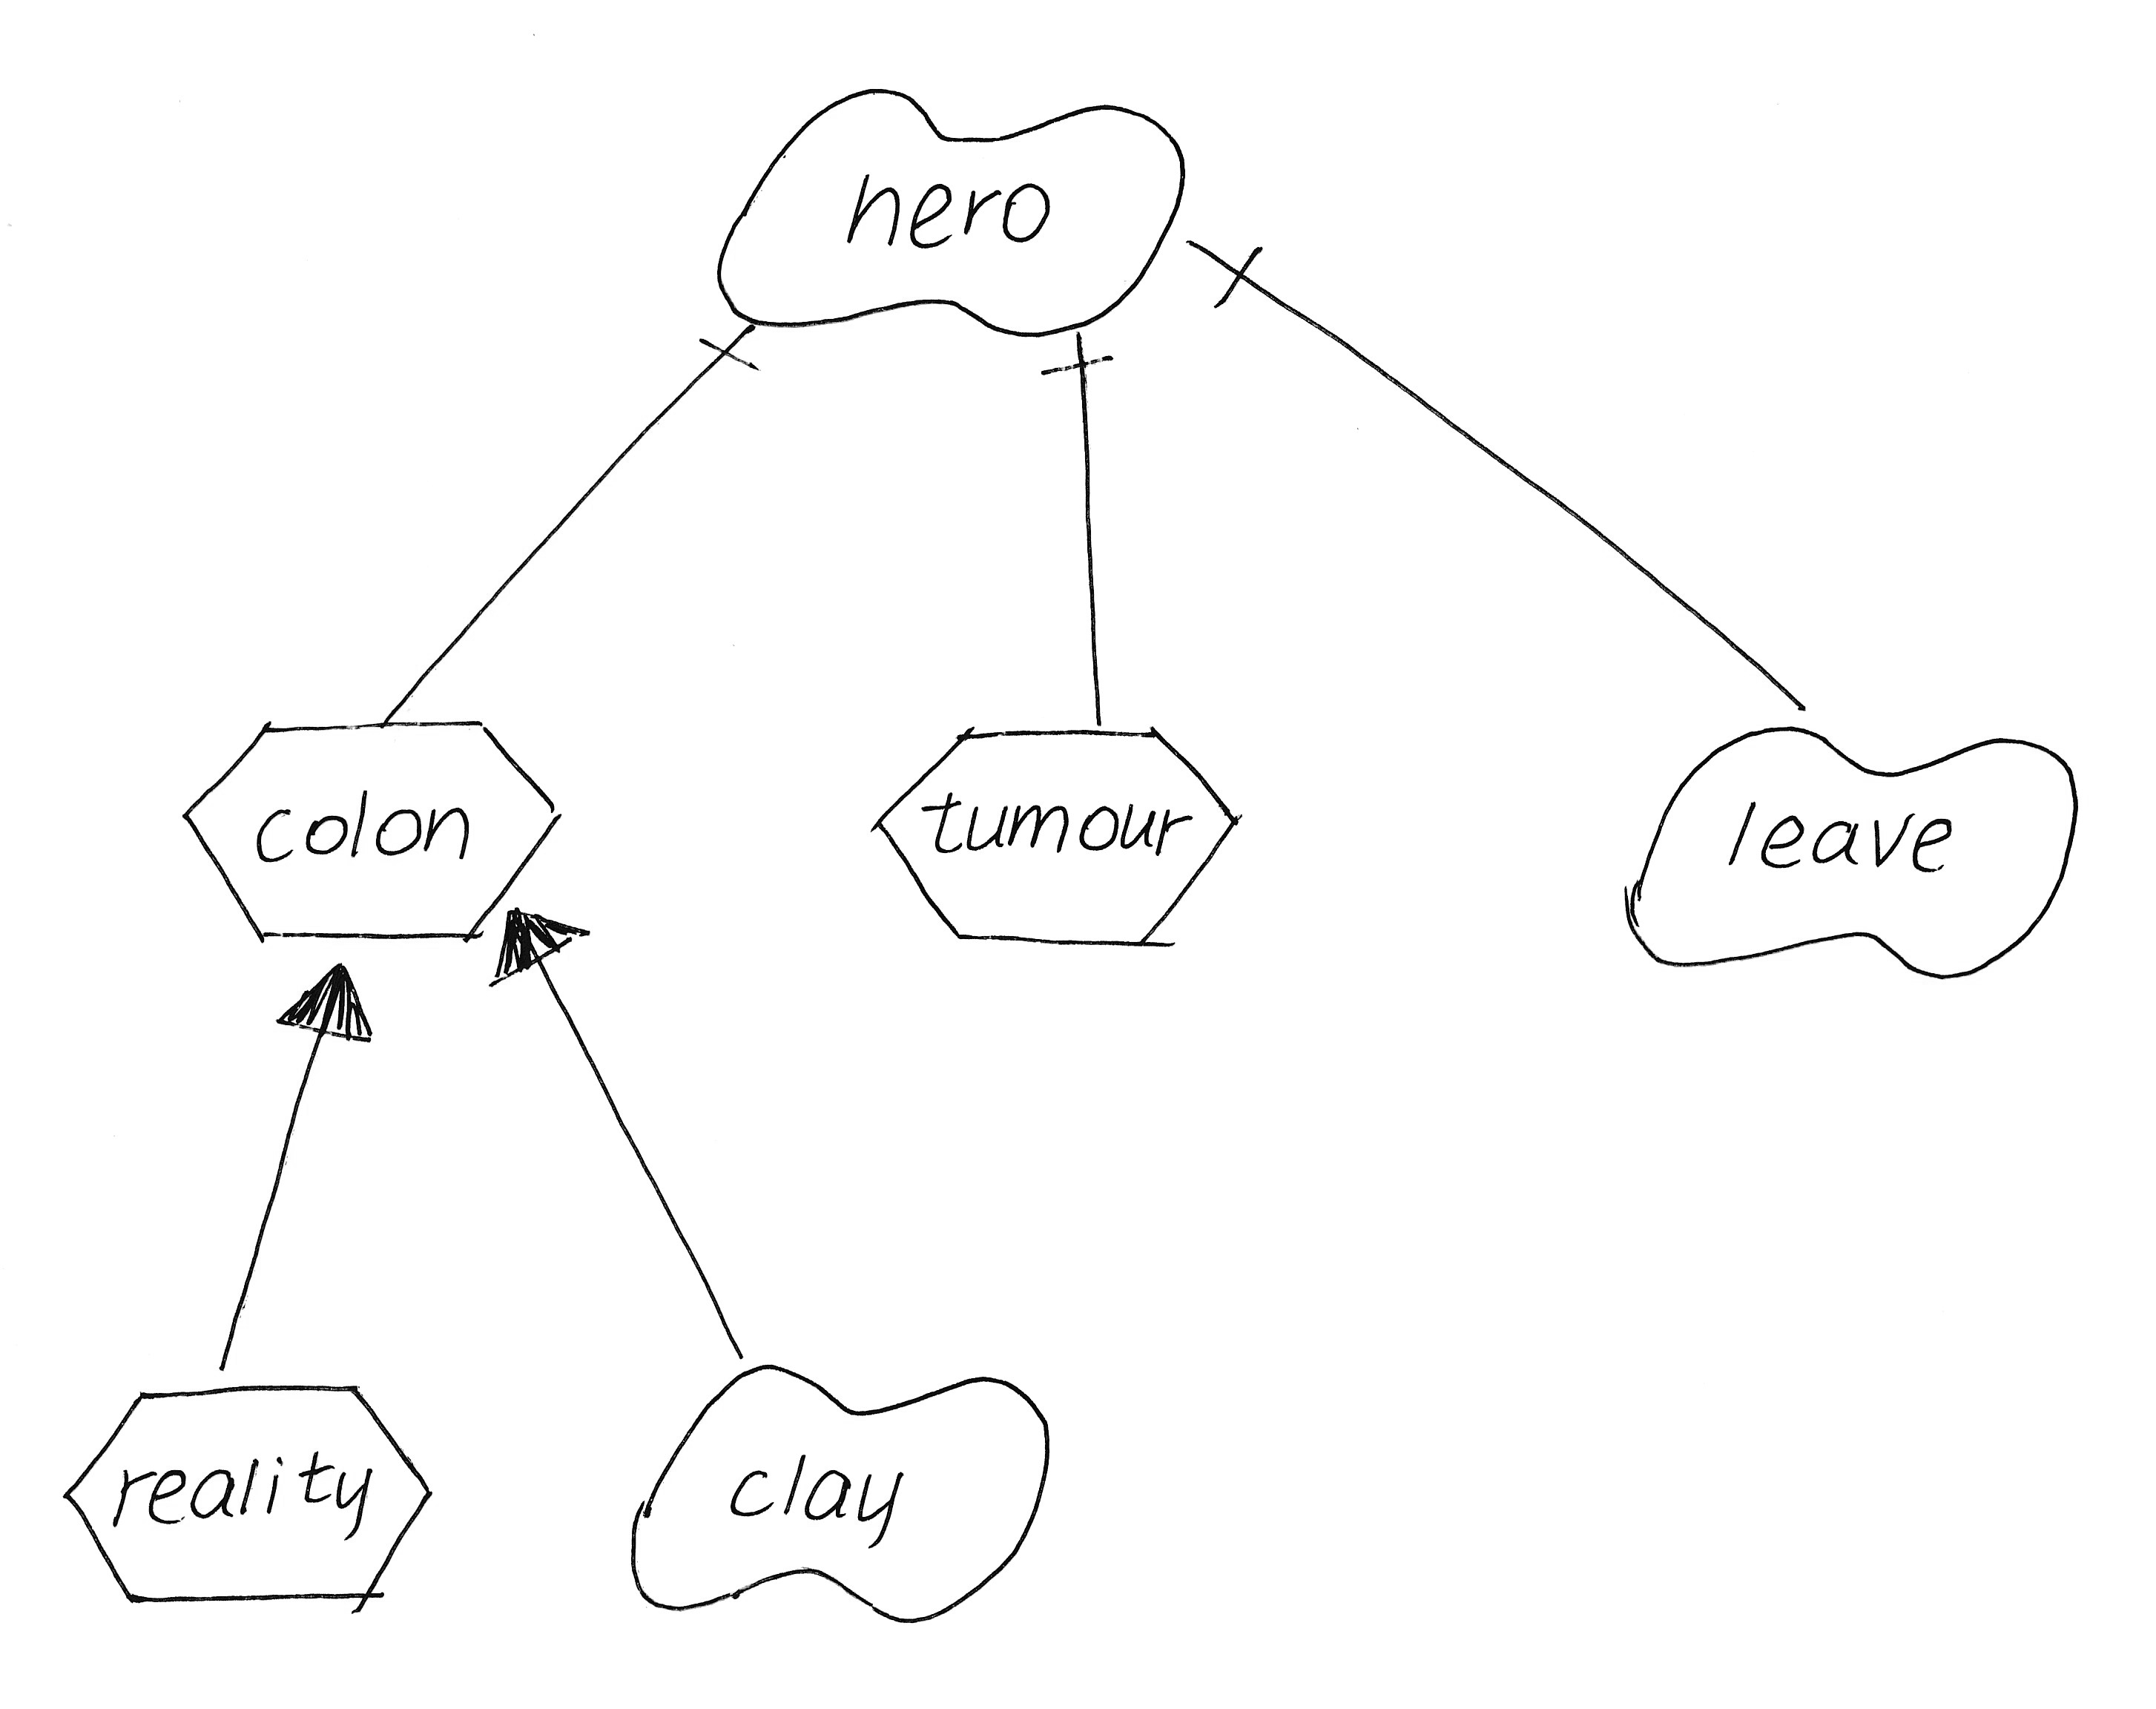and: (1174, 222, 1281, 317), (1034, 315, 1118, 390), (691, 317, 772, 380)
or: (476, 893, 595, 993), (270, 958, 392, 1054)
quality: (702, 63, 1209, 359), (1603, 702, 2102, 993), (604, 1343, 1076, 1635)
task: (156, 702, 579, 967), (45, 1355, 448, 1621), (852, 709, 1256, 970)
